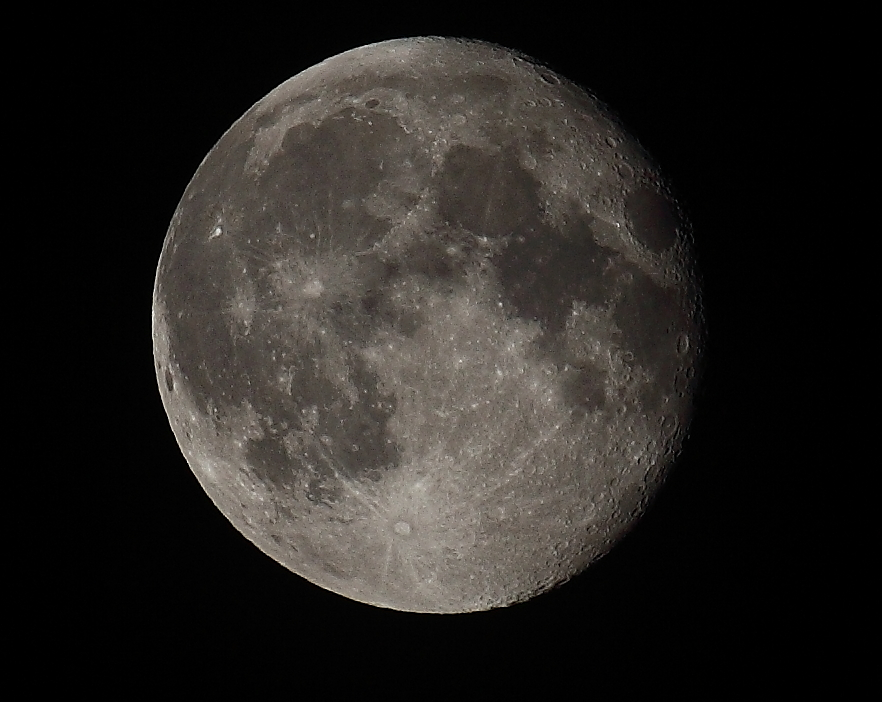crater: (326, 472, 481, 580), (272, 249, 387, 339), (191, 209, 237, 251), (161, 359, 193, 399), (354, 89, 394, 118), (605, 160, 648, 184), (514, 90, 540, 123), (669, 325, 693, 360), (654, 407, 678, 441), (335, 195, 358, 220), (348, 437, 368, 460), (303, 226, 323, 247), (478, 230, 498, 247)
